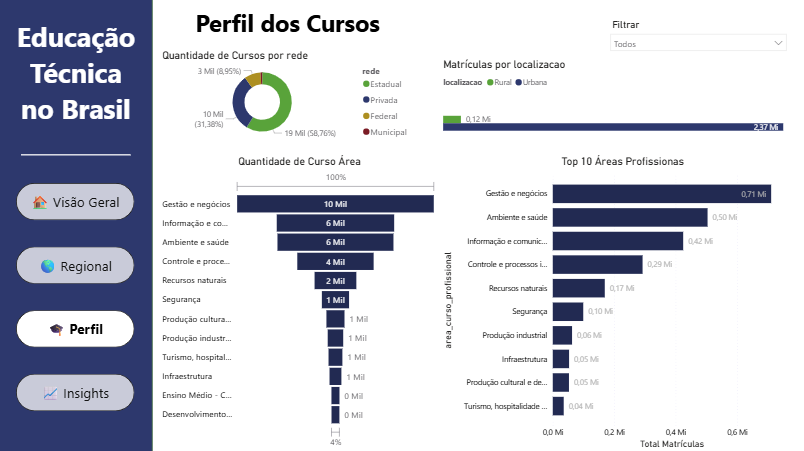

What the dashboard file says about the page in this screenshot:
{"tool":"powerbi","page":{"name":"🎓 Perfil","canvas":[1280,720],"ordinal":2},"visuals":[{"type":"shape","box":[0,0,243.6,720.1],"z":0},{"type":"pageNavigator","box":[27.5,293.7,188.6,364.5],"z":1000},{"type":"textbox","box":[16.7,27.5,209.2,183.7],"z":2000},{"type":"shape","box":[34.4,211.2,173.9,75.6],"z":3000},{"type":"textbox","box":[253.8,9.2,407.7,103.1],"z":4000},{"type":"clusteredBarChart","title":"Top 10 Áreas Profissionas ","fields":{"Category":["fato_matriculas_tecnicas_2025.area_curso_profissional"],"Y":["fato_matriculas_tecnicas_2025.Total Matrículas"]},"box":[700,249.2,580,470.8],"z":5000},{"type":"slicer","fields":{"Values":["fato_matriculas_tecnicas_2025.regiao","fato_matriculas_tecnicas_2025.uf","fato_matriculas_tecnicas_2025.rede","fato_matriculas_tecnicas_2025.municipio"]},"box":[960,27.7,300,67.7],"z":6000},{"type":"funnel","title":"Quantidade de Curso Área ","fields":{"Y":["fato_matriculas_tecnicas_2025.Quantidade de Cursos"],"Category":["fato_matriculas_tecnicas_2025.area_curso_profissional"]},"box":[253.8,249.2,446.2,470.8],"z":7000},{"type":"donutChart","fields":{"Y":["fato_matriculas_tecnicas_2025.Quantidade de Cursos"],"Category":["fato_matriculas_tecnicas_2025.rede"]},"box":[253.8,81.5,407.7,149.2],"z":8000},{"type":"clusteredBarChart","title":"Matrículas por localizacao","fields":{"Series":["fato_matriculas_tecnicas_2025.localizacao"],"Y":["fato_matriculas_tecnicas_2025.Total Matrículas"]},"box":[700,95.4,580,153.8],"z":9000}]}

Visuals, with their boxes in screenshot pixels (x1, y1, x2, y2), scaled from the page's 1280x720 canvas onto the 804x451 screenshot:
shape: crop(0, 0, 153, 450)
pageNavigator: crop(17, 184, 136, 412)
textbox: crop(10, 17, 142, 132)
shape: crop(22, 132, 131, 180)
textbox: crop(159, 6, 416, 70)
"Top 10 Áreas Profissionas " clusteredBarChart: crop(440, 156, 803, 450)
slicer - fato_matriculas_tecnicas_2025.regiao x fato_matriculas_tecnicas_2025.uf: crop(603, 17, 791, 60)
"Quantidade de Curso Área " funnel: crop(159, 156, 440, 450)
donutChart - fato_matriculas_tecnicas_2025.Quantidade de Cursos x fato_matriculas_tecnicas_2025.rede: crop(159, 51, 416, 145)
"Matrículas por localizacao" clusteredBarChart: crop(440, 60, 803, 156)
